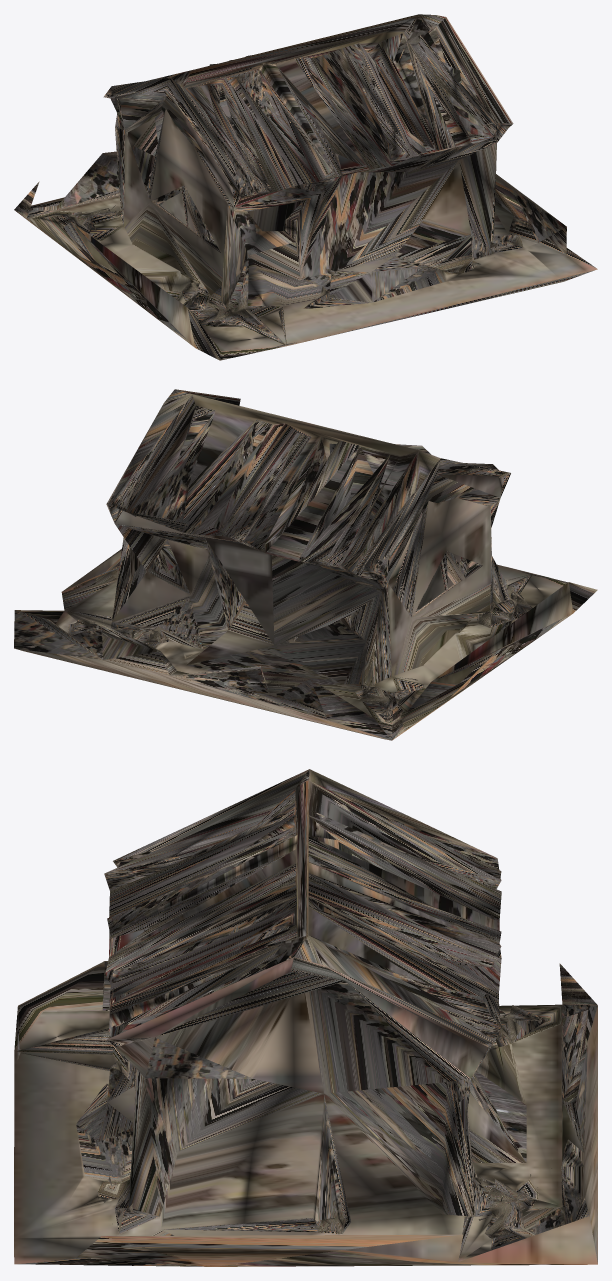
Rendered from bq_bookstore.far.glb.
3 renders of one model, top to bottom at view 1: azimuth 30°, elevation 25°; view 2: azimuth 150°, elevation 25°; view 3: azimuth 270°, elevation 25°, orthographic. The views are drawn at different scales.
Size of the model in its own units: 1.9 by 0.9644 by 1.79.
Materials: 1 (1 with a texture image).
